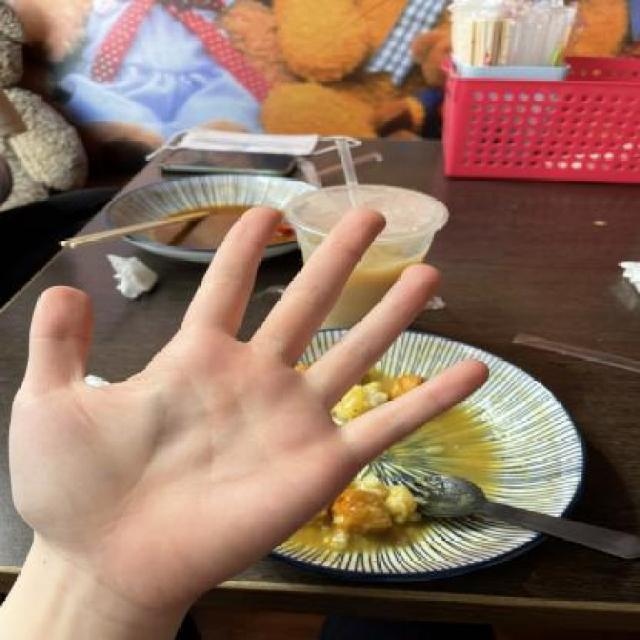hand: (1, 188, 504, 628)
